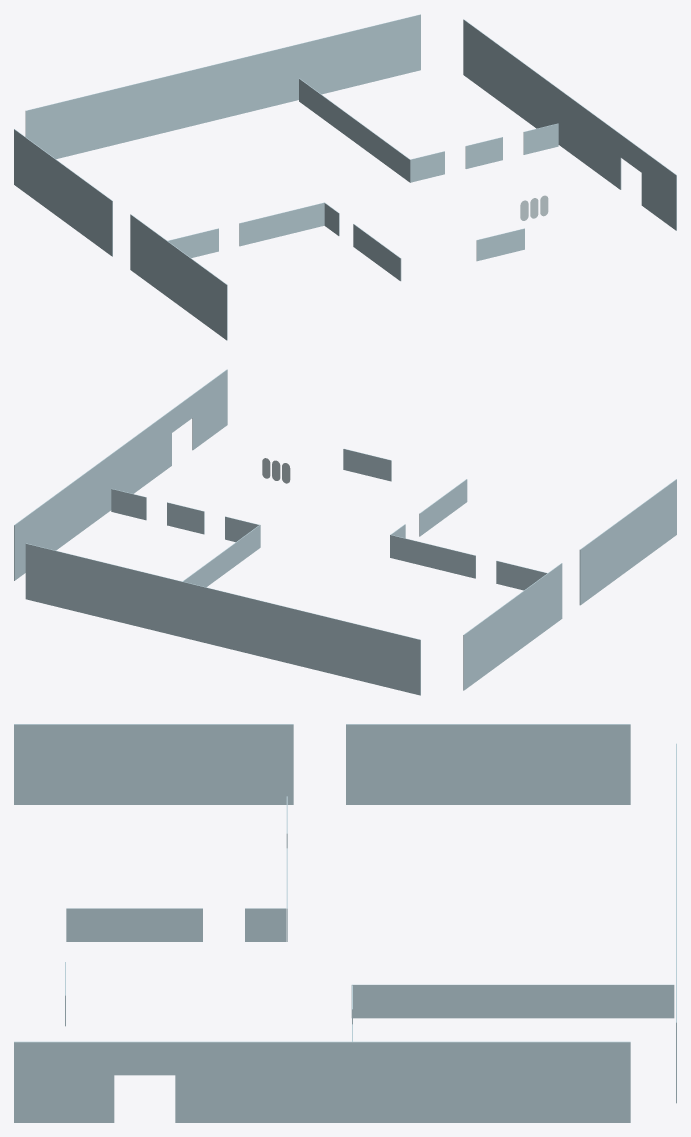
The model's file is Hub_Glass.fbx.
3 views of the same model, one above another, from view 1: azimuth 30°, elevation 25°; view 2: azimuth 150°, elevation 25°; view 3: azimuth 270°, elevation 25° (orthographic). The views are drawn at different scales.
Parts seen in each view (by area): view 1: Glass_Windows, Glass_Partitions, Glass_CueRoom, Glass_Fluted; view 2: Glass_Windows, Glass_Partitions, Glass_CueRoom, Glass_Fluted; view 3: Glass_Windows, Glass_Partitions.
Boxes of the visible parts, box(x1,y1,x2,y2) form: Glass_Windows: box(14, 14, 676, 340); Glass_Partitions: box(167, 78, 558, 281); Glass_CueRoom: box(476, 228, 524, 261); Glass_Fluted: box(520, 195, 548, 220); Glass_Windows: box(14, 369, 676, 695); Glass_Partitions: box(111, 479, 547, 590); Glass_CueRoom: box(343, 448, 391, 481); Glass_Fluted: box(262, 458, 290, 483); Glass_Windows: box(14, 724, 676, 1122); Glass_Partitions: box(66, 796, 674, 1041).
Size of the model in its own units: 173 by 20.7 by 152.
Materials: 2 (1 with a texture image).
